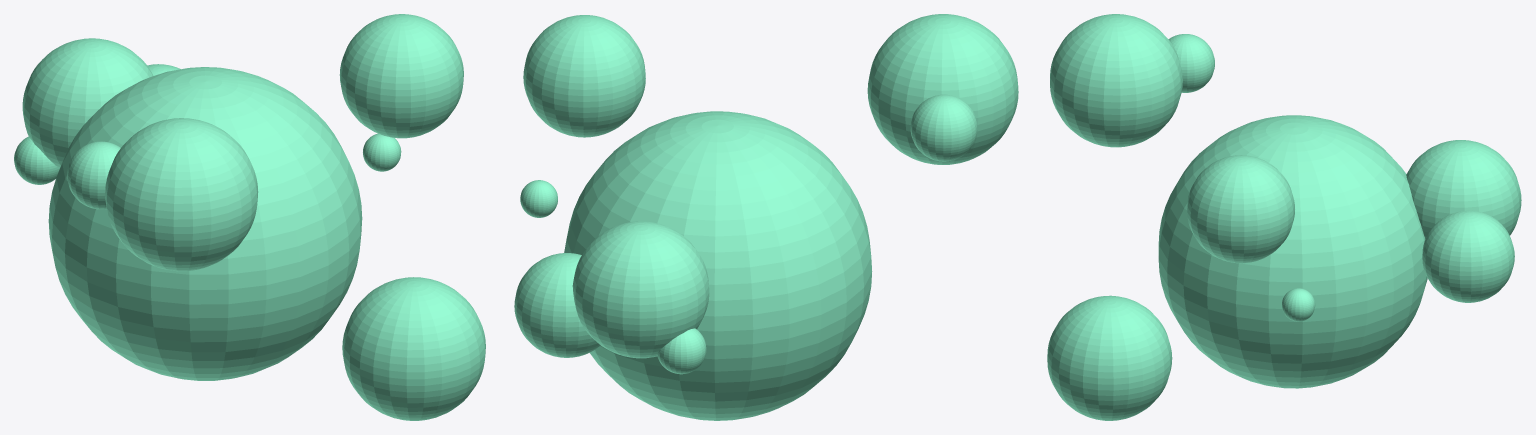
Rendered from Bubbles.fbx.
3 renders of one model, left to right at view 1: azimuth 30°, elevation 25°; view 2: azimuth 150°, elevation 25°; view 3: azimuth 270°, elevation 25°, orthographic. The views are drawn at different scales.
Visible parts, largest first — view 1: Bubbles, Sphere.003, Sphere.006, Sphere.001, Sphere.004, Sphere.008, Sphere.007, Sphere.002; view 2: Bubbles, Sphere.003, Sphere.004, Sphere.001, Sphere.005, Sphere.008, Sphere.007, Sphere.002; view 3: Bubbles, Sphere.003, Sphere.006, Sphere.001, Sphere.004, Sphere.005, Sphere.008, Sphere.002.
Part boxes in pixels (x1,y1,x2,y2): Bubbles: (48,67,362,380); Sphere.003: (105,118,258,271); Sphere.006: (342,277,485,420); Sphere.001: (339,14,463,138); Sphere.004: (22,38,153,168); Sphere.008: (67,141,120,209); Sphere.007: (14,136,59,184); Sphere.002: (363,133,401,171); Bubbles: (564,111,872,420); Sphere.003: (867,14,1018,164); Sphere.004: (572,221,709,358); Sphere.001: (523,15,645,137); Sphere.005: (514,253,600,357); Sphere.008: (910,94,977,161); Sphere.007: (657,328,706,374); Sphere.002: (520,180,557,217); Bubbles: (1158,115,1427,388); Sphere.003: (1050,14,1182,147); Sphere.006: (1047,295,1172,420); Sphere.001: (1187,155,1294,263); Sphere.004: (1406,140,1521,238); Sphere.005: (1422,210,1514,302); Sphere.008: (1168,34,1214,92); Sphere.002: (1282,288,1315,321).
Size of the model in its own units: 9.26 by 10.51 by 7.38.
